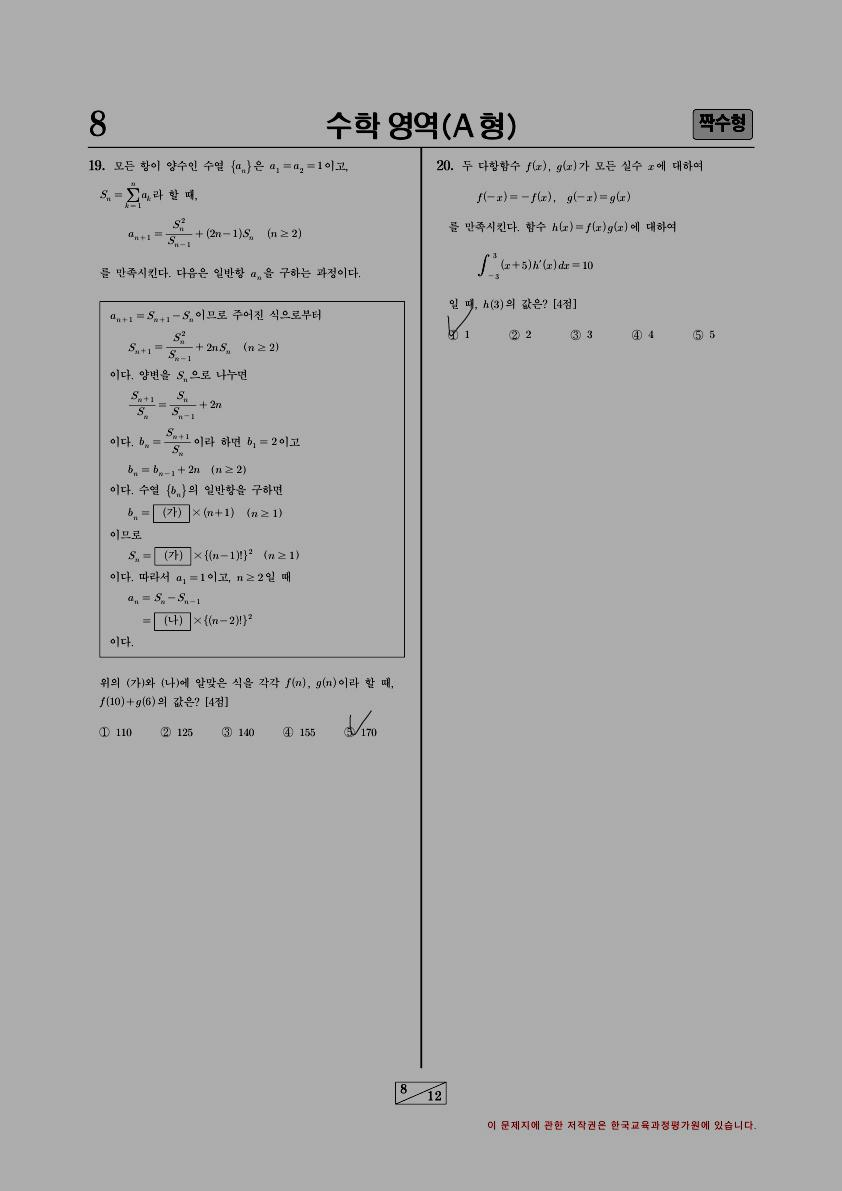question: (66, 147, 414, 761), (422, 152, 738, 356)
